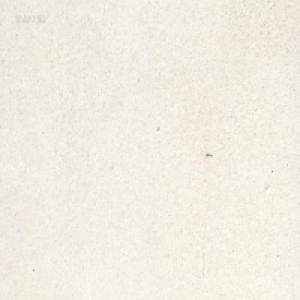Nail: (205, 152, 212, 157)
